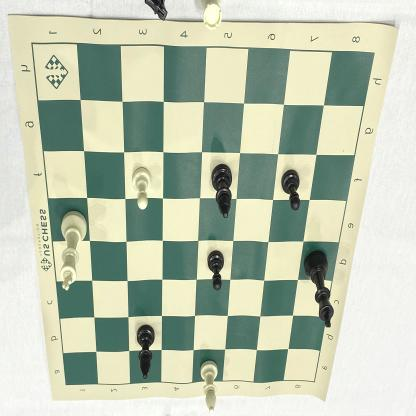bishop: (210, 162, 238, 221)
black-bishop: (135, 320, 159, 384)
black-king: (302, 247, 338, 337)
black-pawn: (280, 165, 302, 216), (207, 249, 226, 296)
white-bishop: (198, 355, 222, 416)
white-king: (54, 206, 88, 296)
white-pawn: (129, 164, 155, 216)
